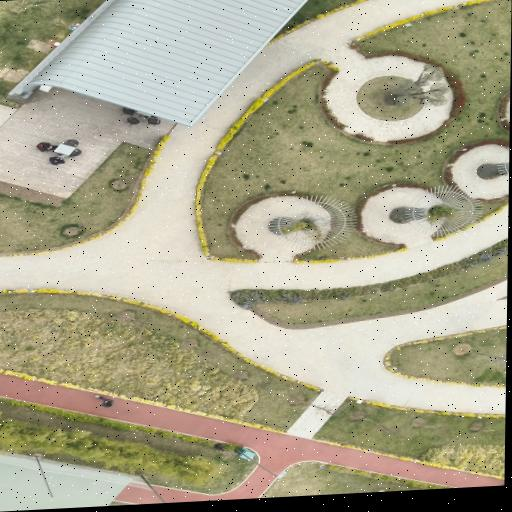person: (95, 396, 113, 407), (36, 143, 51, 152), (501, 482, 512, 494), (49, 157, 64, 165), (46, 146, 55, 151)
